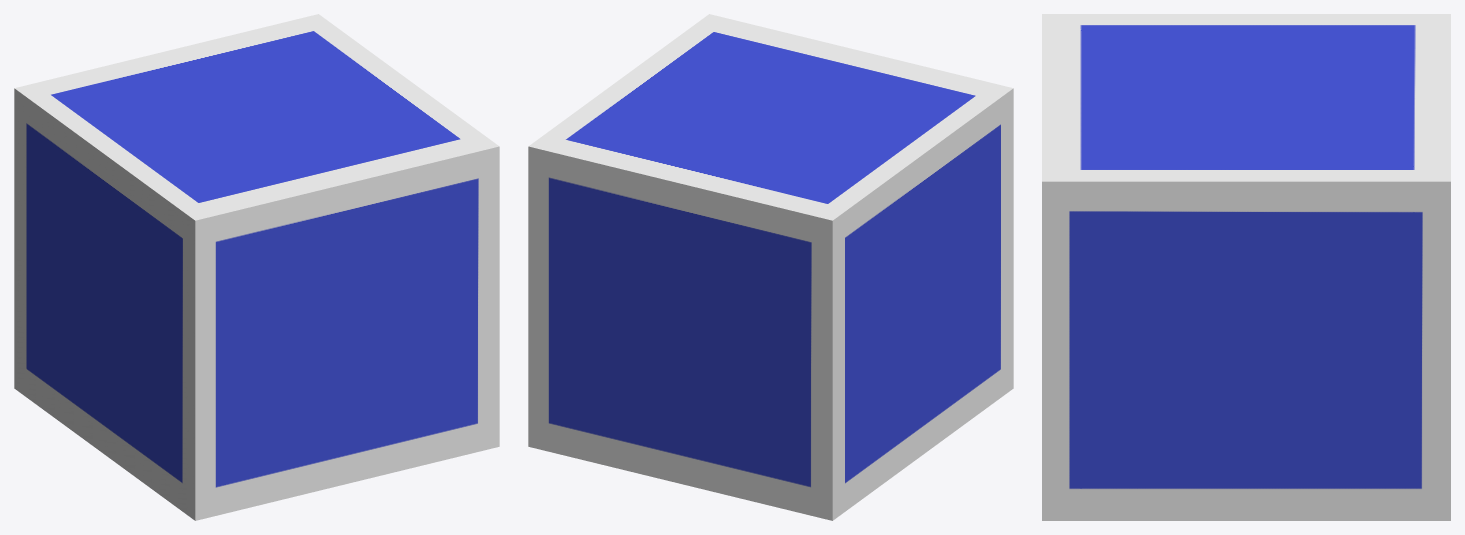
The model's file is Houdai.FBX.
3 renders of one model, left to right at view 1: azimuth 30°, elevation 25°; view 2: azimuth 150°, elevation 25°; view 3: azimuth 270°, elevation 25°, orthographic. The views are drawn at different scales.
Parts seen in each view (by area): view 1: Box001; view 2: Box001; view 3: Box001.
Boxes of the visible parts, box(x1,y1,x2,y2) form: Box001: box(14, 14, 499, 520); Box001: box(528, 14, 1013, 520); Box001: box(1042, 14, 1450, 520).
Bounding box in the file's own units: 177 × 183 × 167.
